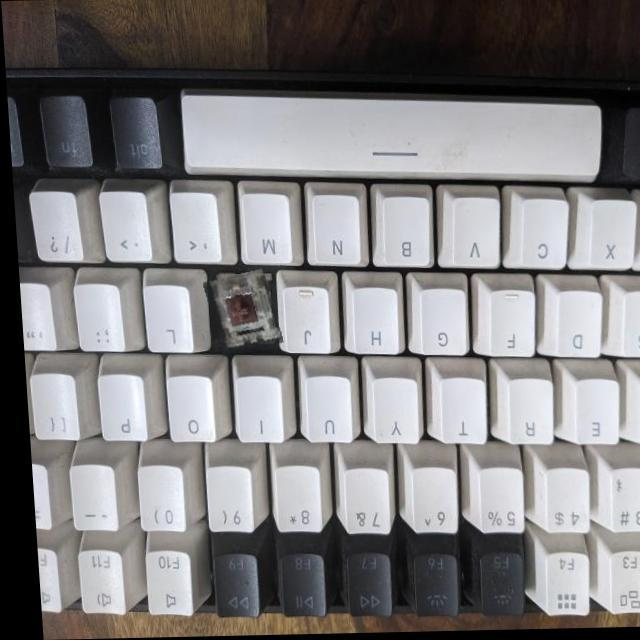key-switch: (201, 271, 275, 354)
